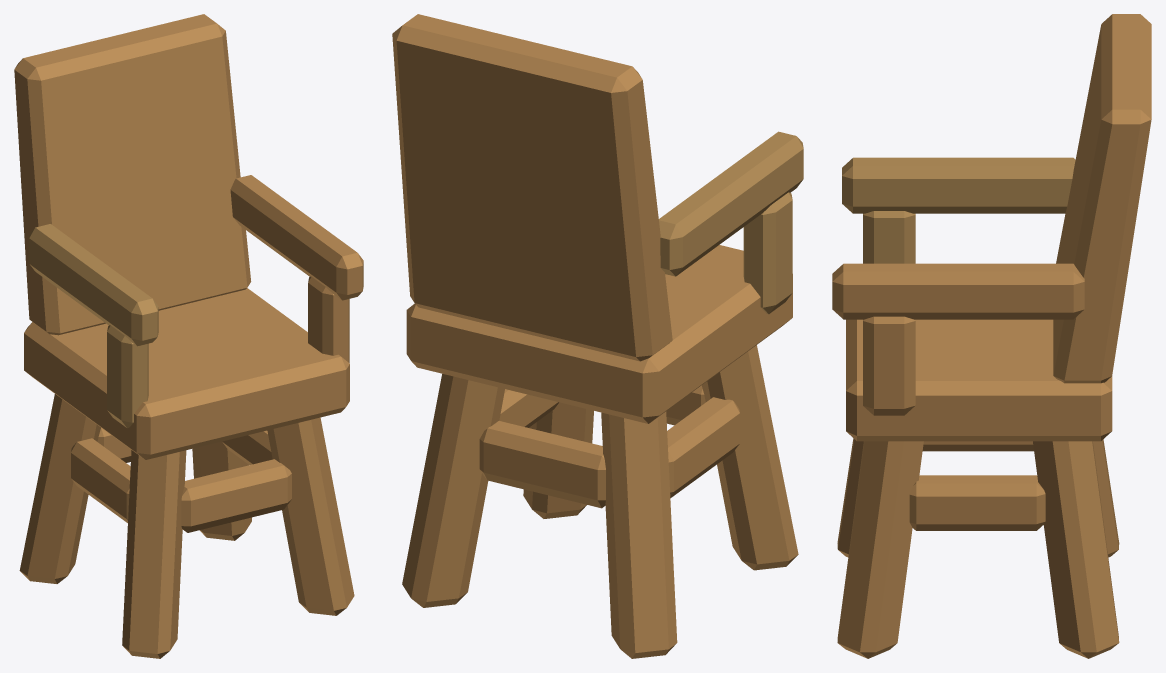
Rendered from chair_a.gltf.
The picture shows the model from 3 angles, left to right: view 1: azimuth 30°, elevation 25°; view 2: azimuth 150°, elevation 25°; view 3: azimuth 270°, elevation 25°; orthographic projection. The views are drawn at different scales.
Visible parts, largest first — view 1: chair_a001; view 2: chair_a001; view 3: chair_a001.
Boxes of the visible parts, x1,y1,x2,y2 form: chair_a001: (14, 14, 363, 658); chair_a001: (392, 14, 803, 658); chair_a001: (832, 14, 1151, 658).
Size of the model in its own units: 0.4283 by 0.8984 by 0.4795.
1 material, 1 textured.
